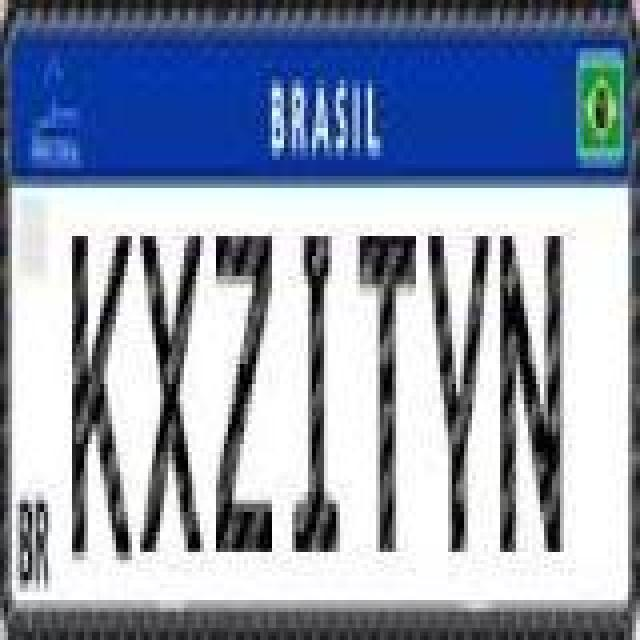I: (290, 230, 342, 554)
K: (72, 232, 136, 568)
N: (494, 230, 562, 554)
T: (358, 230, 418, 554)
X: (138, 230, 206, 554)
Y: (424, 230, 488, 554)
Z: (214, 230, 274, 554)
